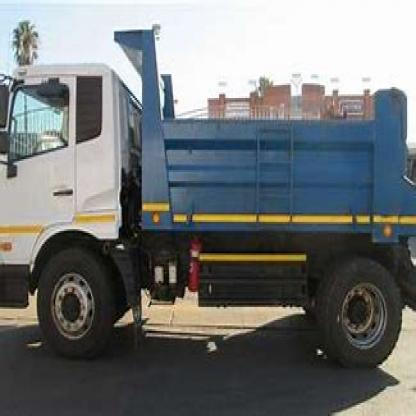dump_truck: (4, 20, 415, 370)
